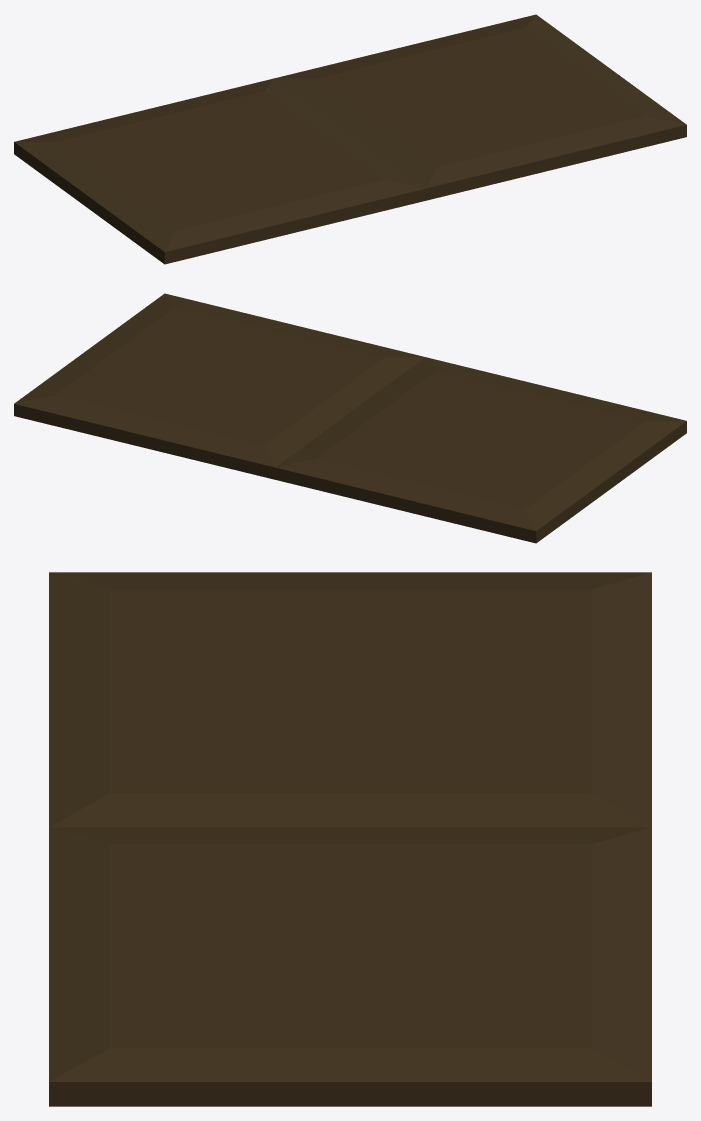
Rendered from Small_Floor.fbx.
3 views of the same model, one above another, from view 1: azimuth 30°, elevation 25°; view 2: azimuth 150°, elevation 25°; view 3: azimuth 270°, elevation 25° (orthographic). The views are drawn at different scales.
Visible parts, largest first — view 1: WoodSmallFloorTile; view 2: WoodSmallFloorTile; view 3: WoodSmallFloorTile.
Boxes of the visible parts, bbox=[...] form: WoodSmallFloorTile: bbox=[14, 14, 686, 264]; WoodSmallFloorTile: bbox=[14, 293, 686, 543]; WoodSmallFloorTile: bbox=[49, 572, 651, 1106].
Bounding box in the file's own units: 400 × 12 × 200.
